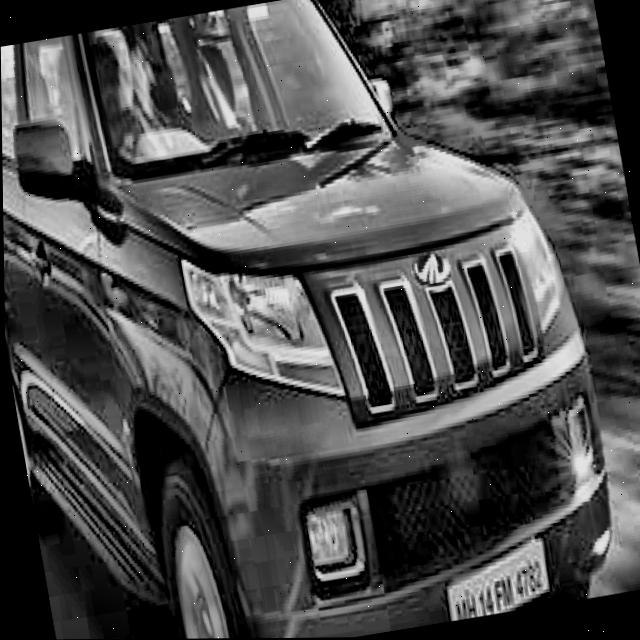light_vehicle: (0, 0, 631, 640)
